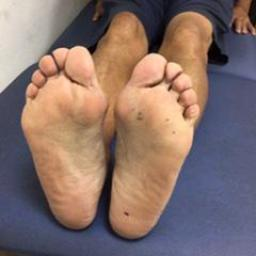Plantar View -Both Feet-: (16, 40, 204, 246)
